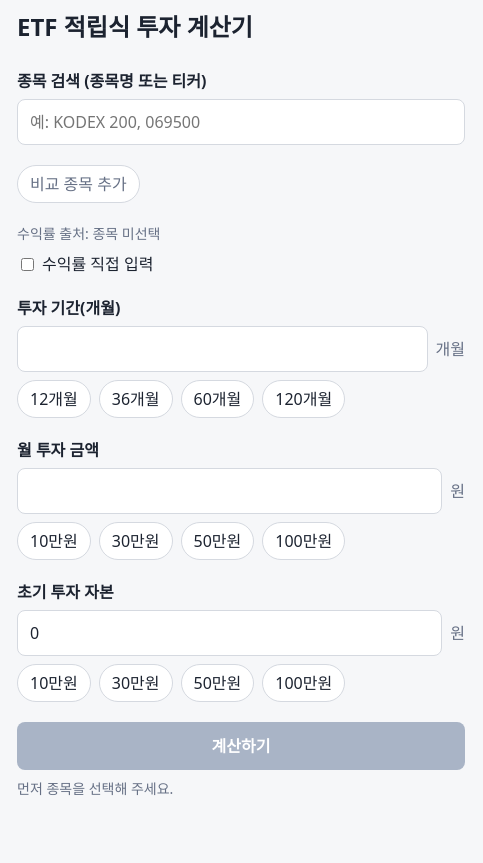
Test: 성장 그래프 (US-007) › 결과 아래에 그래프를 표시한다
Type "알파" into the dropdown labelled "종목 검색 (종목명 또는 티커)" at (241, 122), box left=17, top=99, right=465, bottom=145
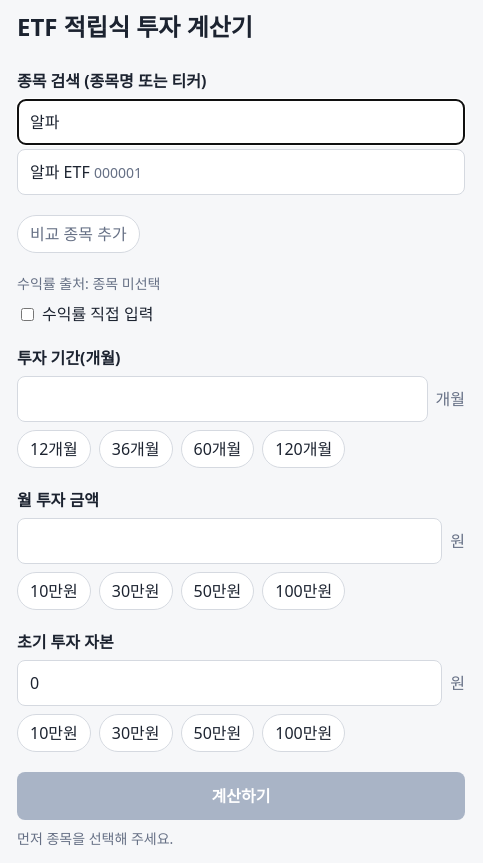
Click the option "알파 ETF 000001" at (86, 172), box left=30, top=161, right=142, bottom=183
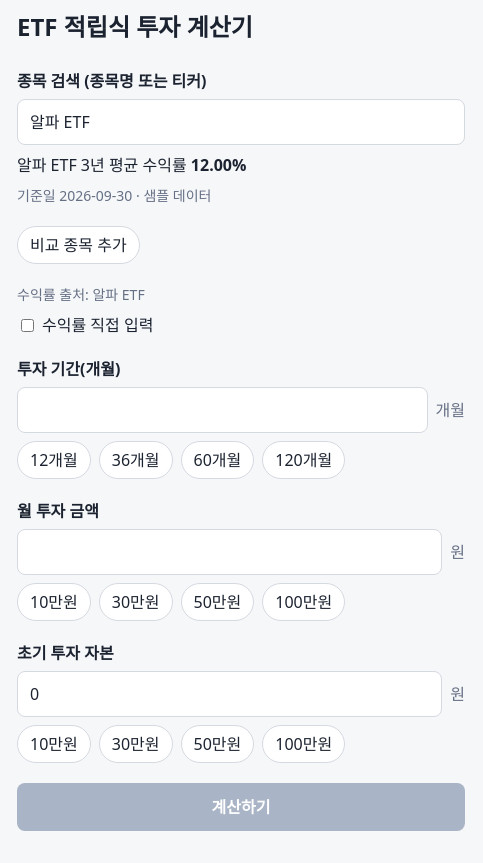
Type "12" into the field labelled "투자 기간(개월)" at (222, 410), box left=17, top=387, right=428, bottom=433
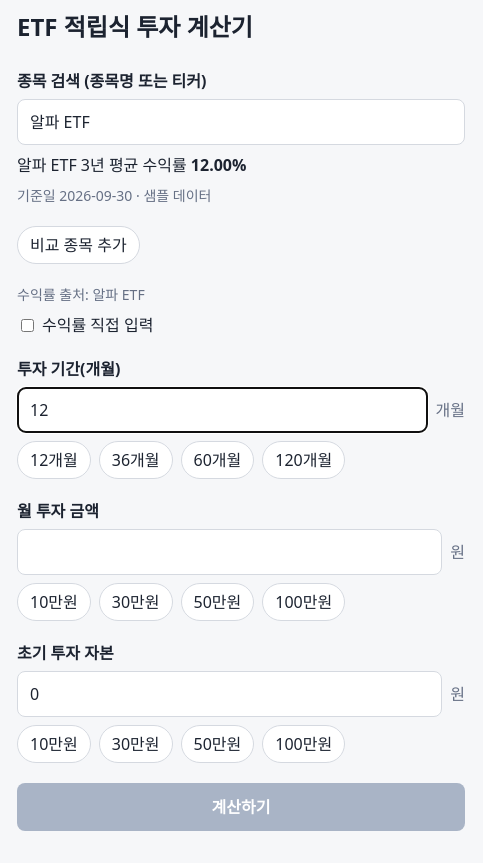
Type "100000" into the field labelled "월 투자 금액" at (230, 552), box left=17, top=529, right=442, bottom=575
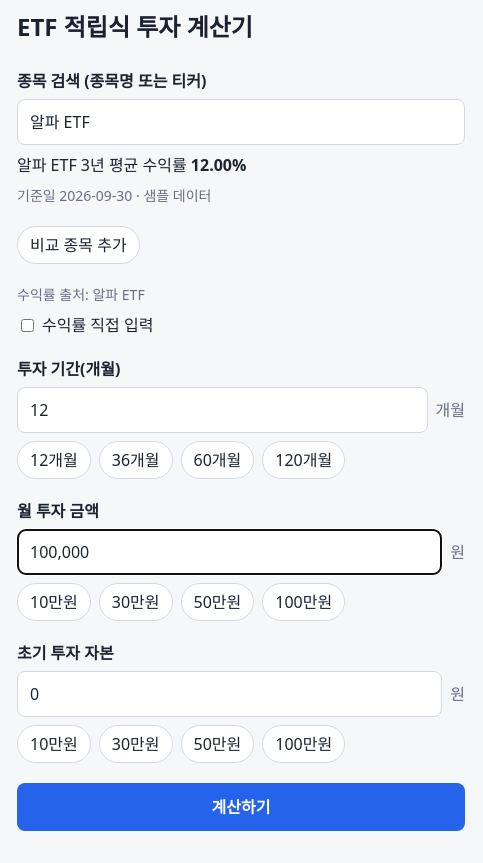
Replace the text in the field labelled "초기 투자 자본" with "1000000" at (230, 694), box left=17, top=671, right=442, bottom=717
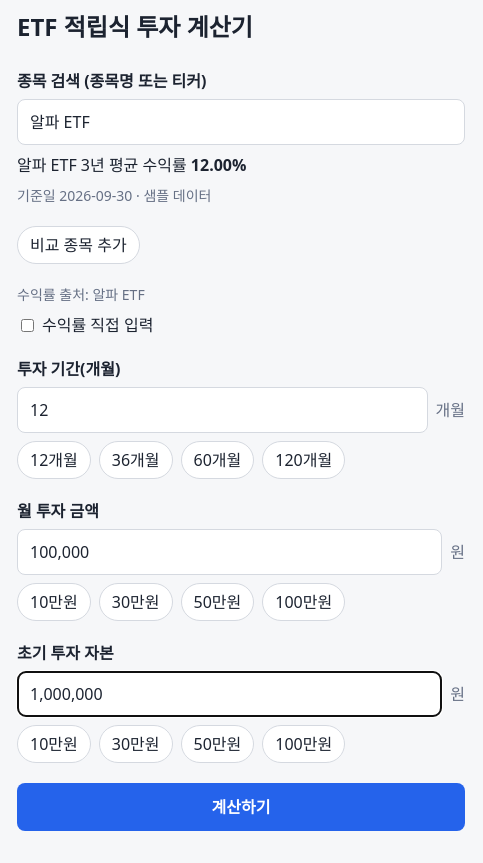
Click the button "계산하기" at (241, 807), box left=17, top=783, right=465, bottom=831
(page scrolled)
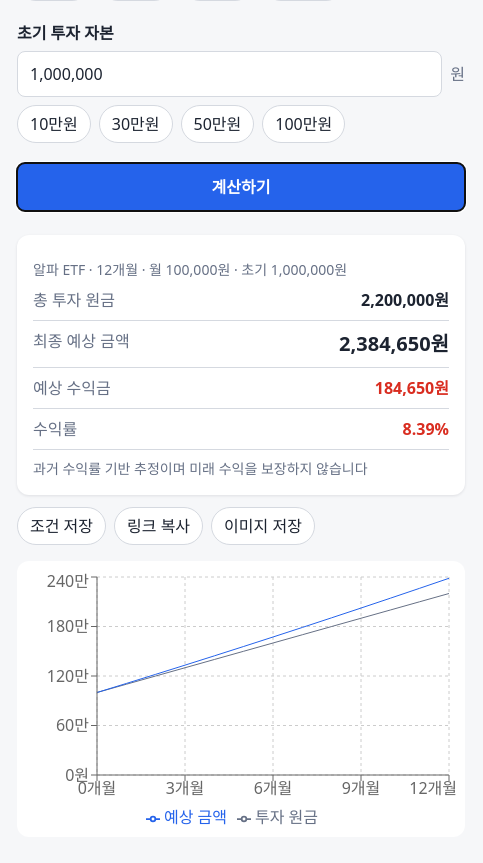
Expected: the element named "성장 그래프" is shown, left=17, top=561, right=465, bottom=837
